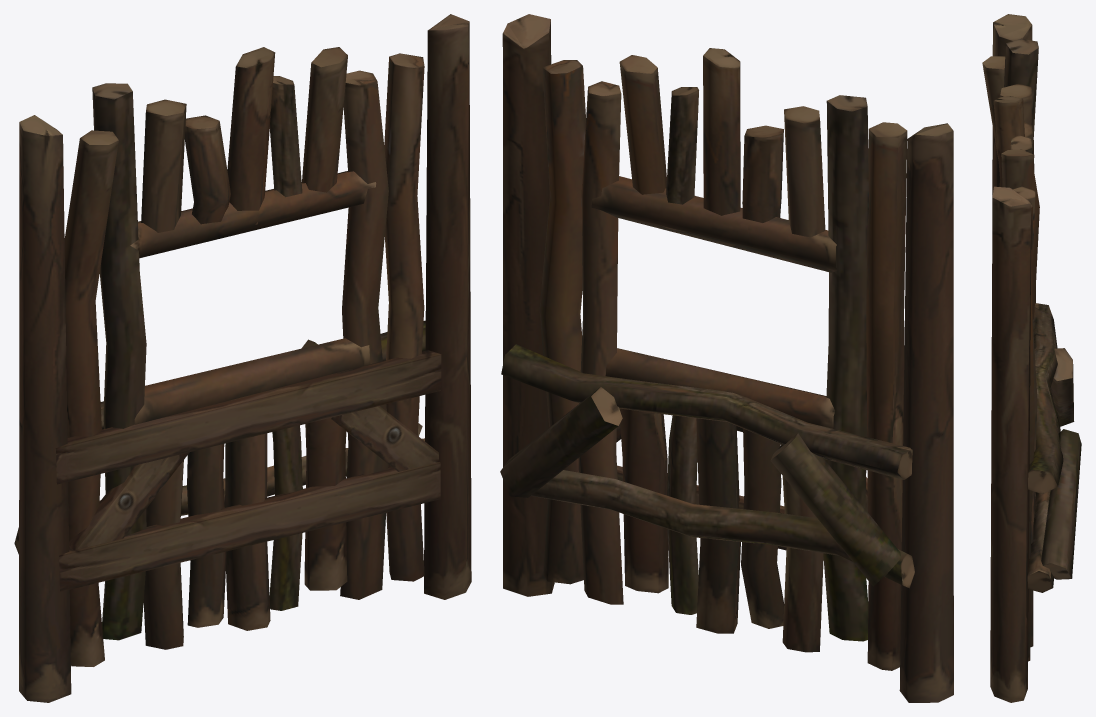
File: mf_window011.FBX
The picture shows the model from 3 angles, left to right: view 1: azimuth 30°, elevation 25°; view 2: azimuth 150°, elevation 25°; view 3: azimuth 270°, elevation 25°; orthographic projection. The views are drawn at different scales.
Visible parts, largest first — view 1: mf_window011; view 2: mf_window011; view 3: mf_window011.
Part boxes in pixels (<box>): mf_window011: <box>14,14,471,702</box>; mf_window011: <box>500,14,953,702</box>; mf_window011: <box>982,14,1081,702</box>.
Size of the model in its own units: 2 by 2.51 by 0.4345.
Materials: 1 (1 with a texture image).
